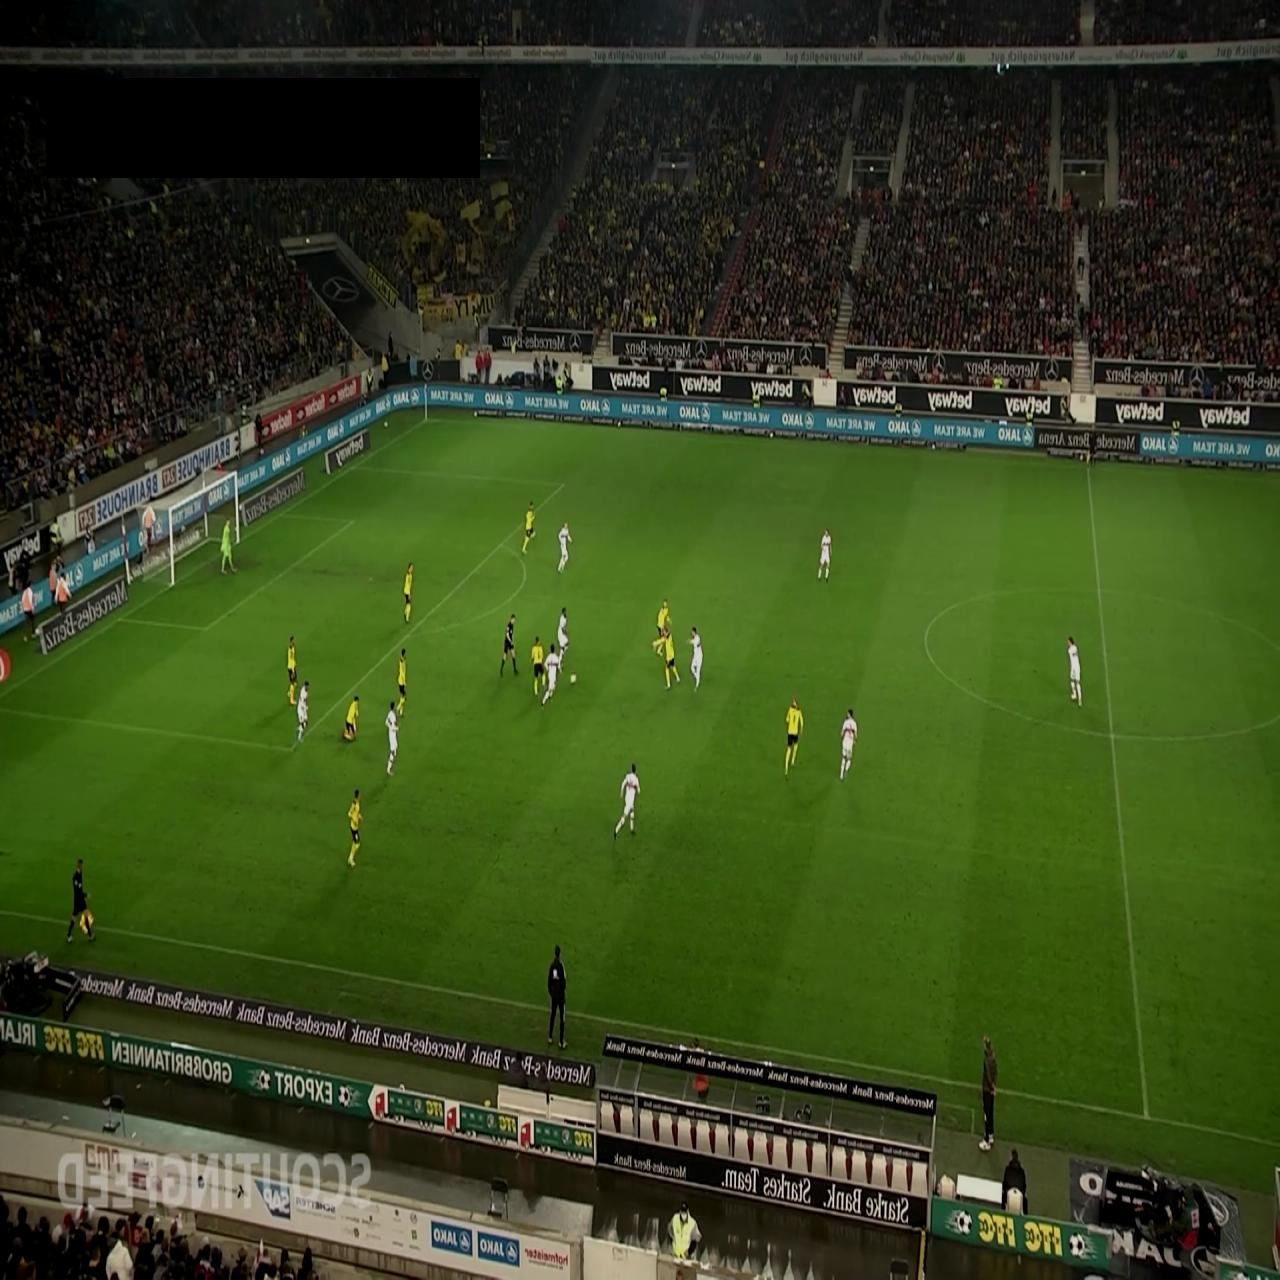ball: (570, 670, 578, 686)
goalkeeper: (220, 518, 238, 575)
player: (614, 762, 641, 839), (654, 622, 681, 690), (784, 695, 804, 781), (839, 708, 858, 781), (542, 642, 562, 708), (347, 787, 362, 868), (385, 699, 399, 775), (294, 680, 310, 746), (688, 626, 704, 692), (1067, 636, 1082, 706), (530, 634, 544, 696), (556, 520, 572, 572), (521, 500, 536, 555), (817, 528, 832, 583), (287, 635, 298, 704), (396, 647, 407, 716), (343, 696, 360, 740), (558, 606, 570, 666), (403, 562, 414, 623), (656, 598, 670, 639)
referee: (66, 858, 96, 942), (499, 613, 519, 678), (1086, 424, 1097, 468)
